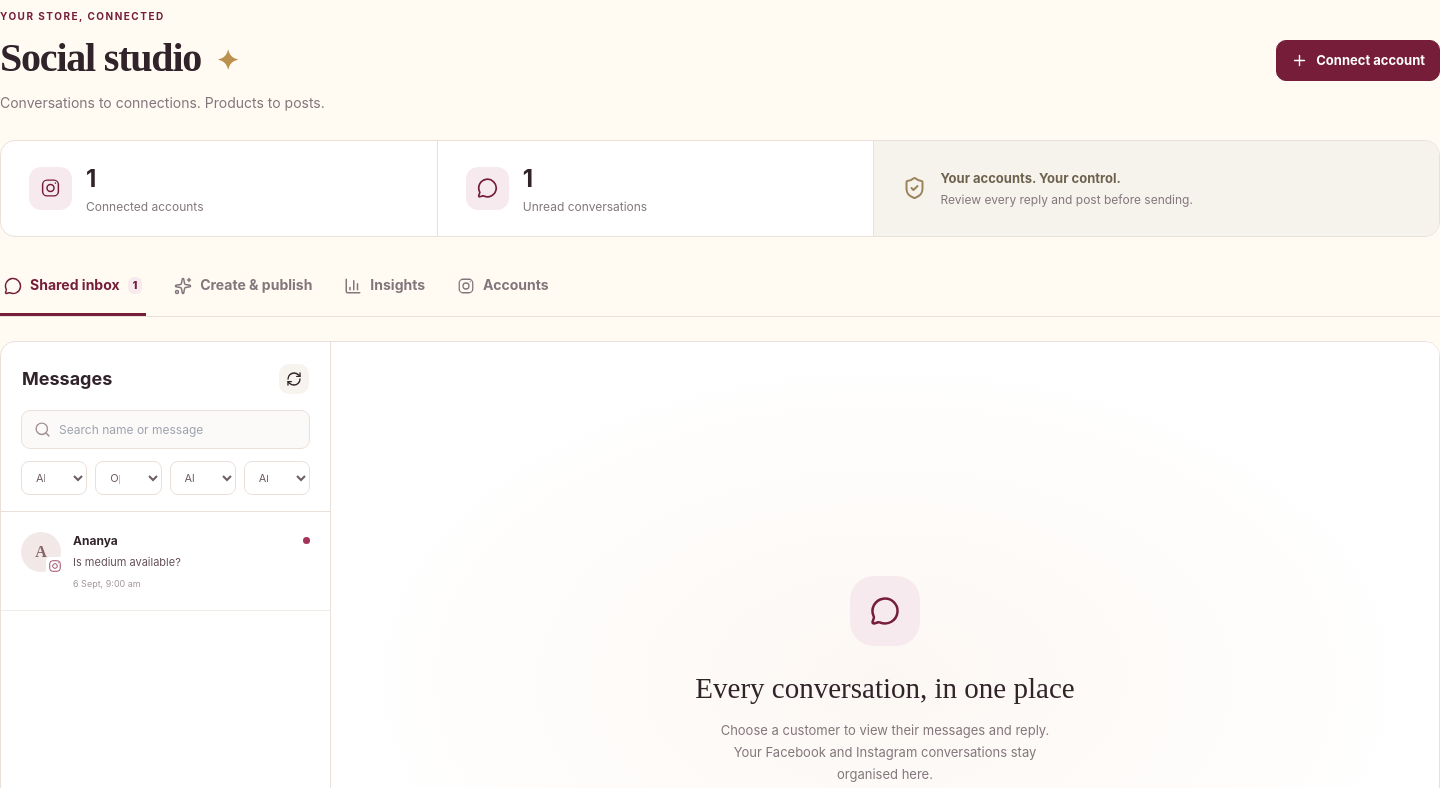
unknown delivery remains visible and is not blindly resubmitted
Click the button "A Ananya Is medium available? 6 Sept, 9:00 am". click: (166, 562)
box: x1=1 y1=512 x2=330 y2=611
(page scrolled)
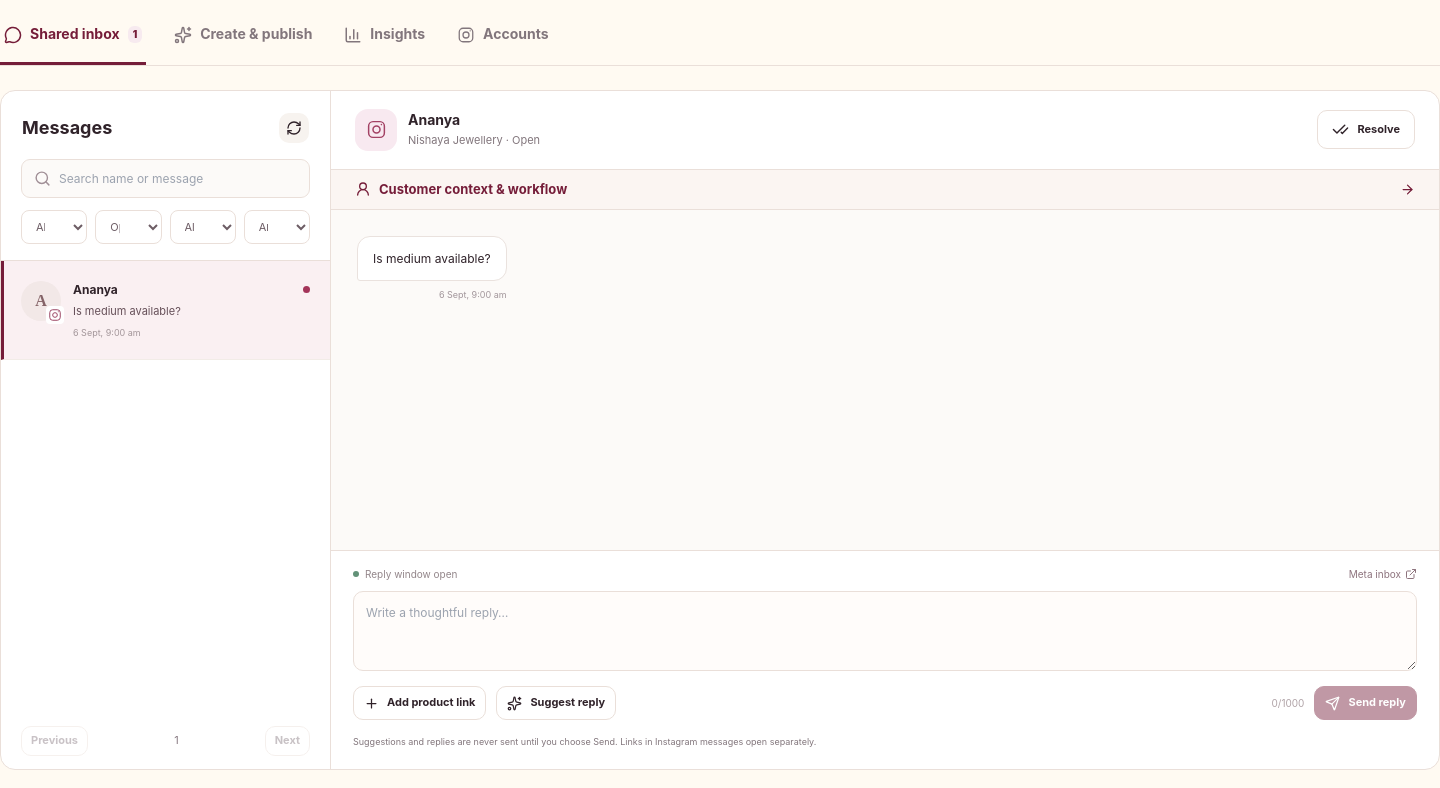
Type "Your product link" into the text box named "Write your reply". click: (885, 631)
box: x1=353 y1=591 x2=1417 y2=671
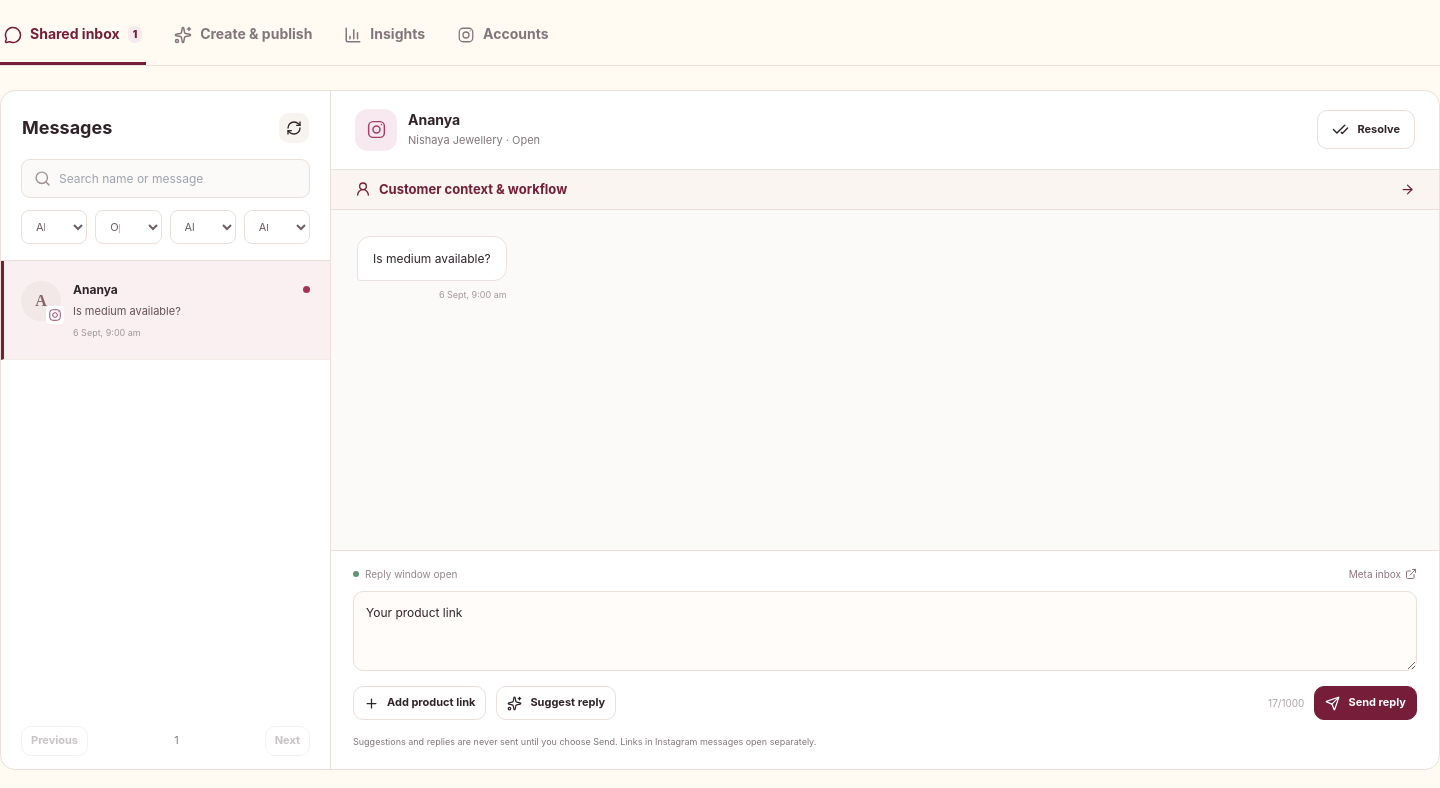
Click the button "Send reply". click: (1366, 703)
box: x1=1314 y1=686 x2=1417 y2=720
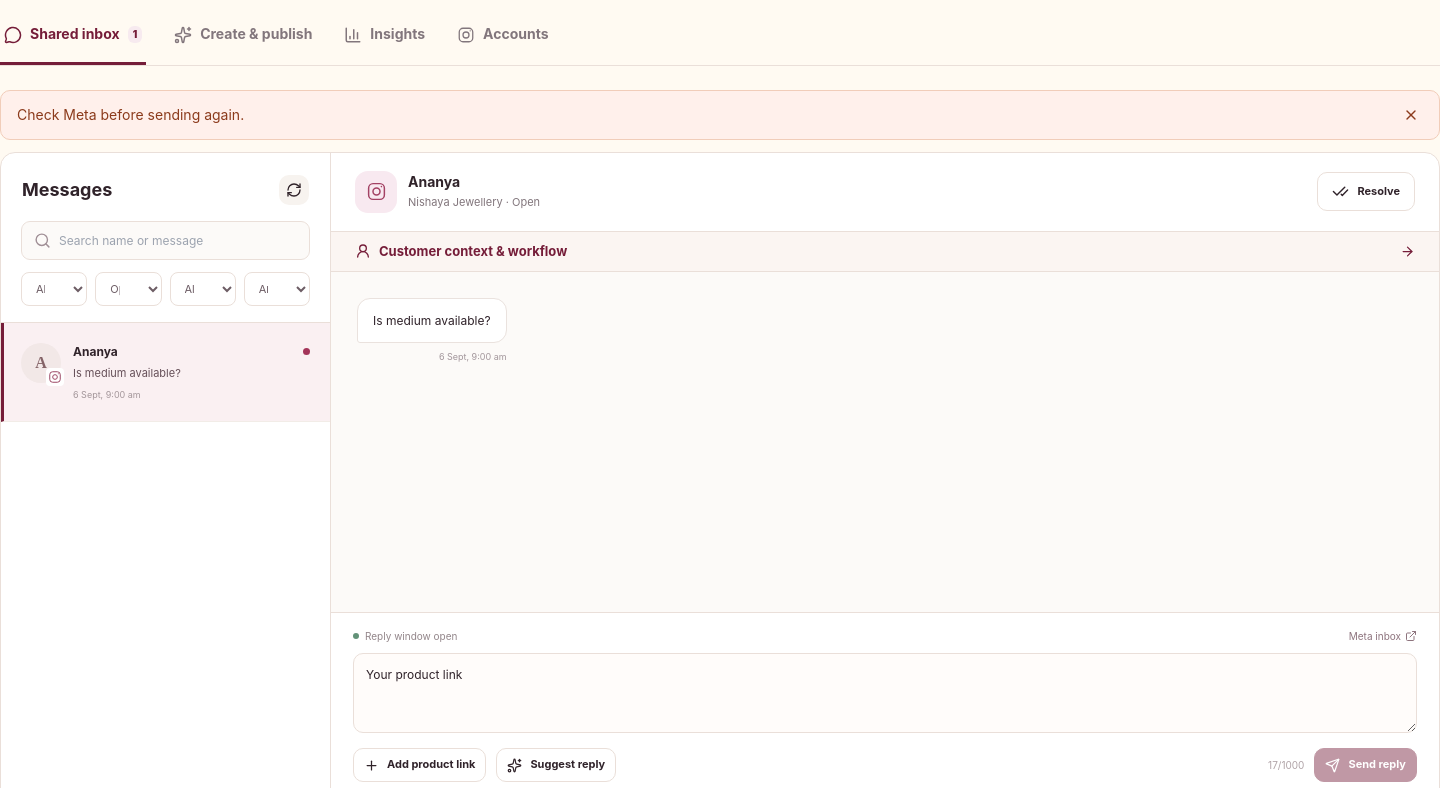
Result: the message reads "Check Meta before sending again." at x1=17 y1=106 x2=244 y2=122
Result: the button "Send reply" is disabled at x1=1314 y1=748 x2=1417 y2=782
